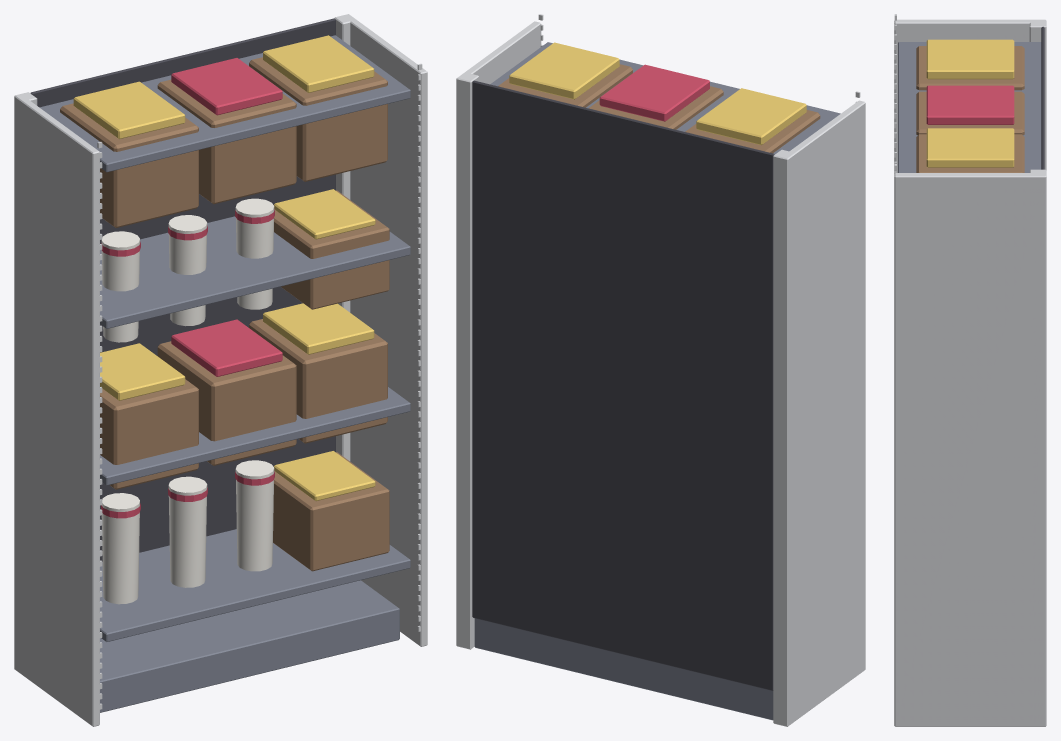
The model's file is cinema-multiplex-and-foyer-stock-shelving-with-stock-f4f647f8__34670.glb.
3 renders of one model, left to right at view 1: azimuth 30°, elevation 25°; view 2: azimuth 150°, elevation 25°; view 3: azimuth 270°, elevation 25°, orthographic. The views are drawn at different scales.
Visible parts, largest first — view 1: stock-shelving-with-stock; view 2: stock-shelving-with-stock; view 3: stock-shelving-with-stock.
Boxes of the visible parts, bbox=[...] form: stock-shelving-with-stock: bbox=[14, 14, 427, 726]; stock-shelving-with-stock: bbox=[456, 14, 865, 726]; stock-shelving-with-stock: bbox=[894, 14, 1046, 726].
Size of the model in its own units: 1.1 by 1.83 by 0.45.
